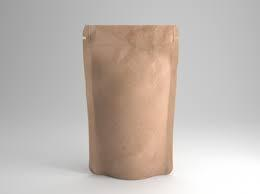Paper: (75, 14, 183, 182)
